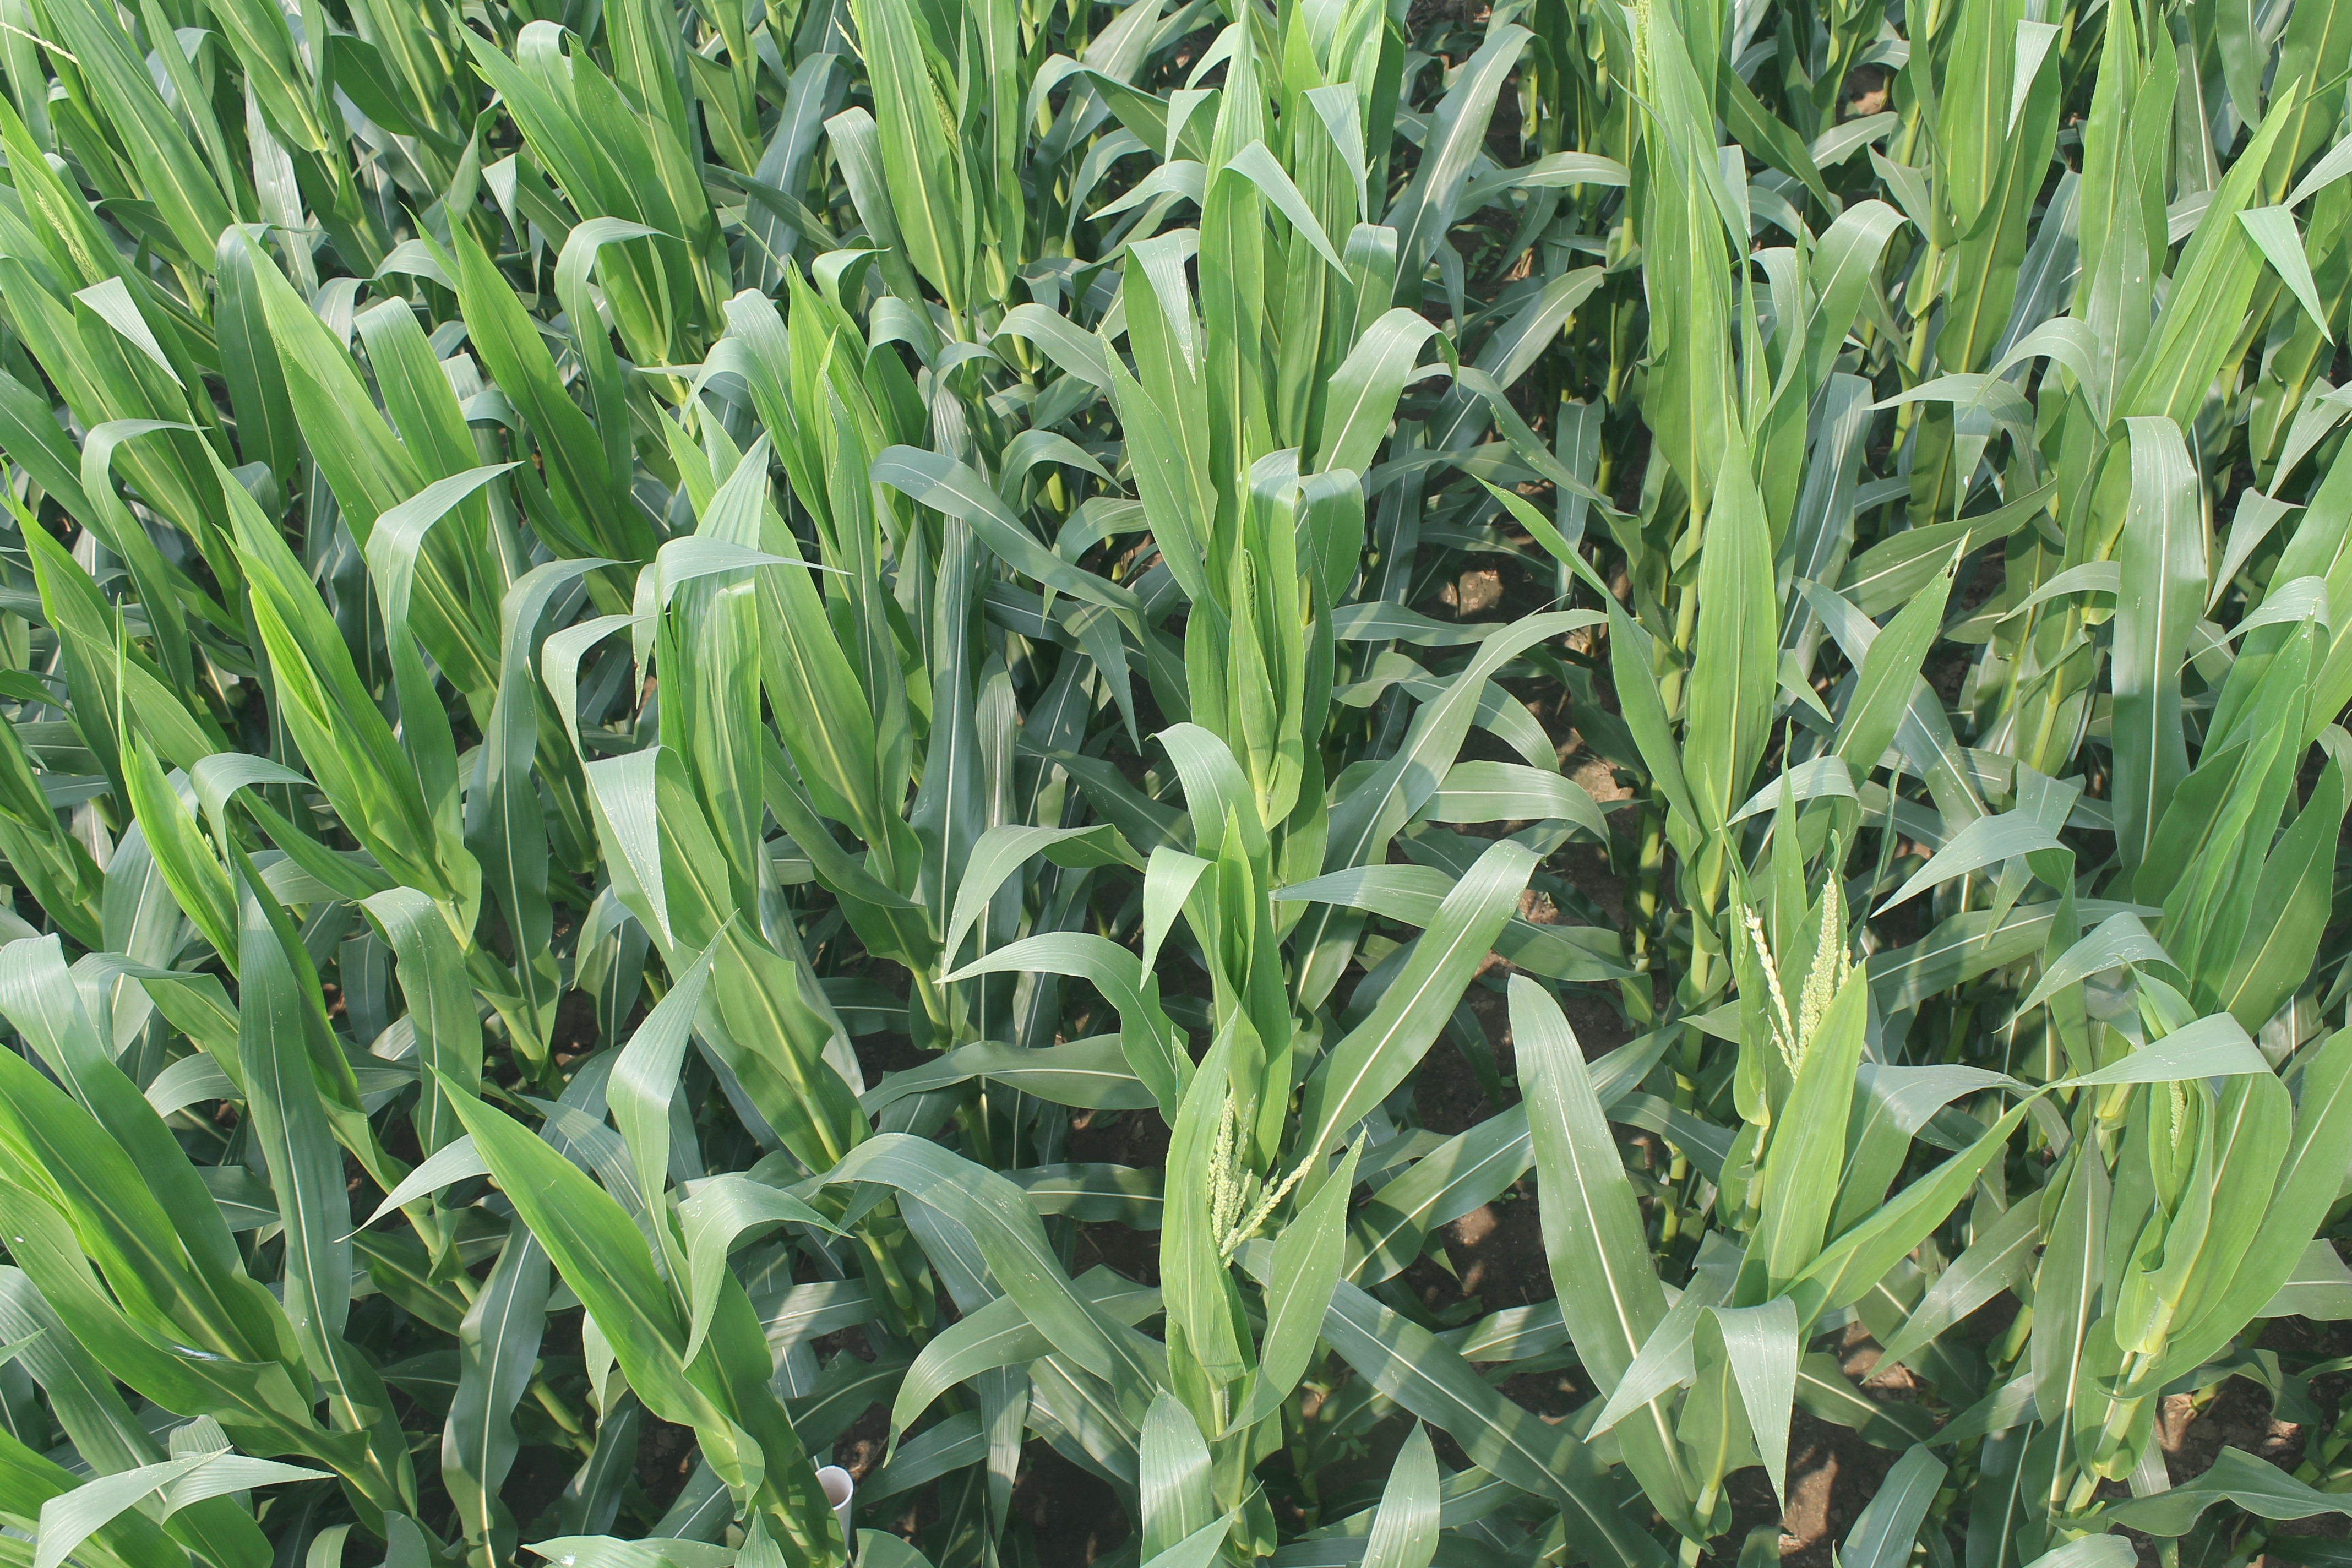Maize: (1743, 871, 1844, 1067), (1211, 1094, 1316, 1260)
